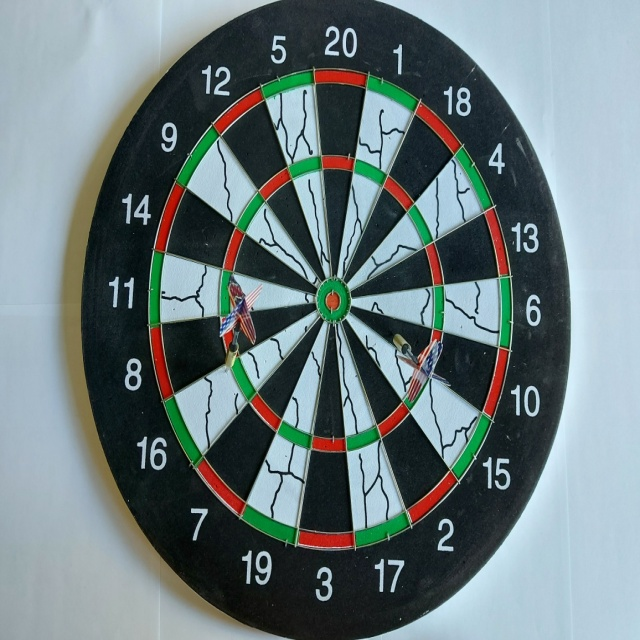Dart: (377, 321, 457, 410), (213, 277, 266, 378)
